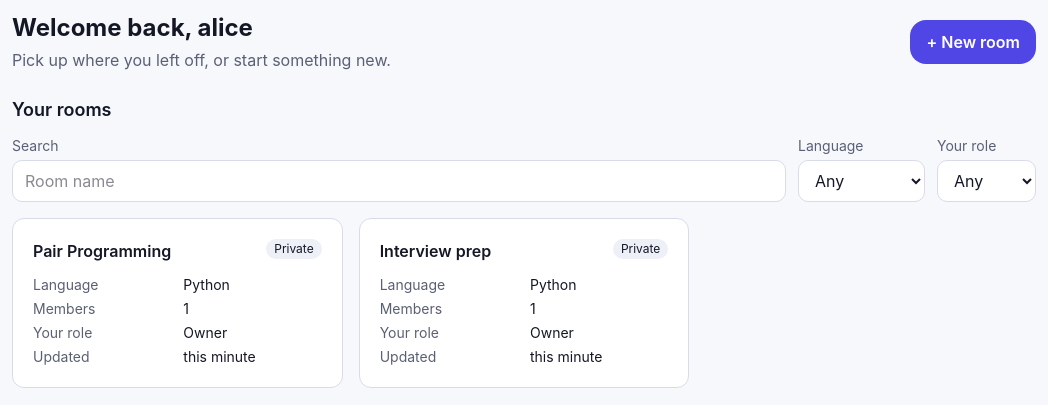
Test: Dashboard › filters by language straight away
This screenshot has width=1048, height=405.
Select "JavaScript" in the dropdown labelled "Language". click: (862, 181)
box: [798,160,925,202]
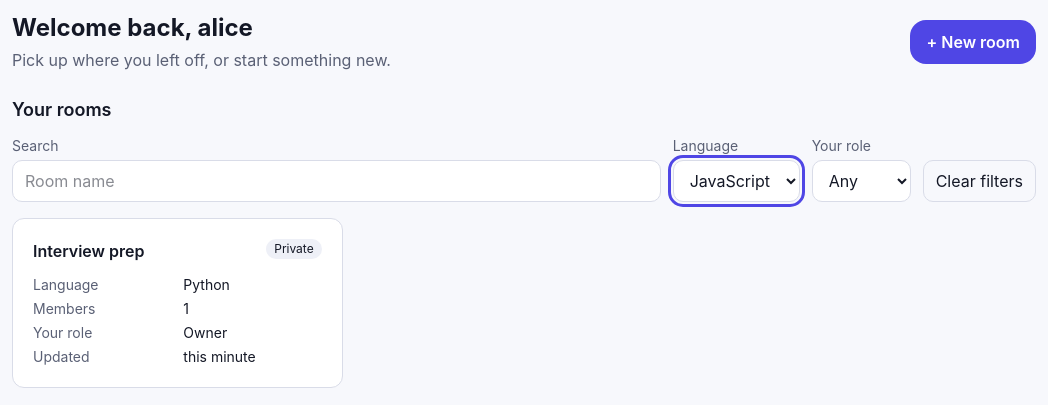
expect the link "Pair Programming" is gone: met
